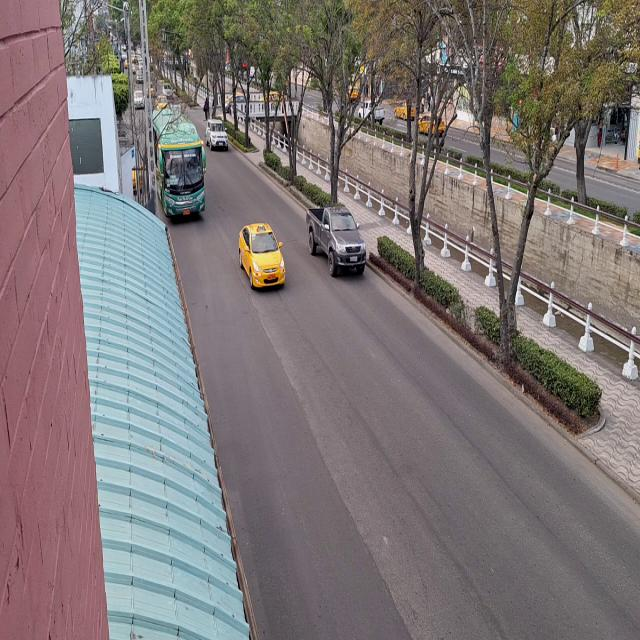BUS: (158, 128, 208, 221)
CMT: (307, 204, 367, 275)
SED: (236, 222, 284, 289)
